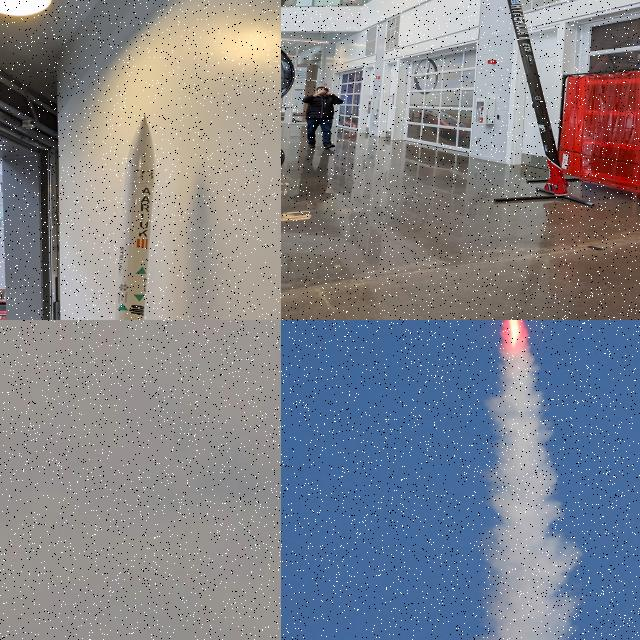Rocket: (507, 0, 569, 196), (115, 114, 155, 320)
